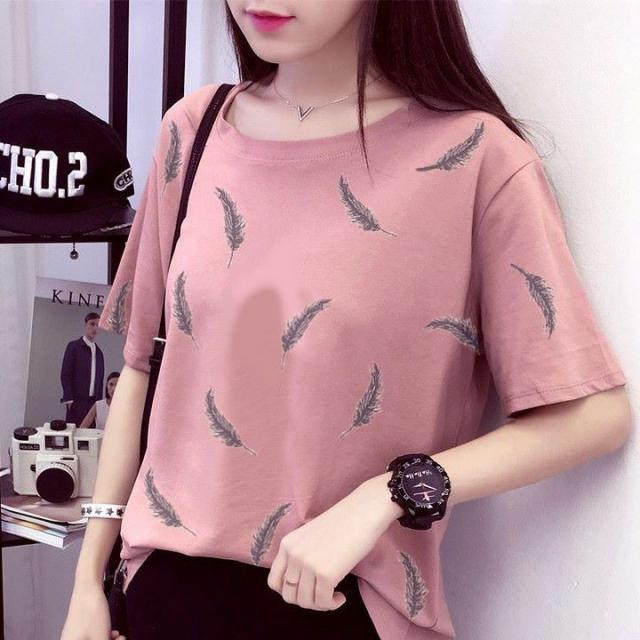Shirt: (91, 84, 628, 572)
